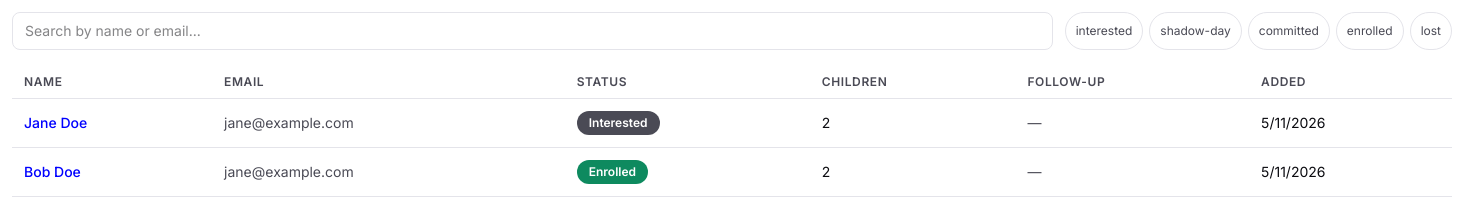
ProspectTable › filter by status shows only matching prospects
This screenshot has width=1464, height=214.
Click the button "enrolled" at (1370, 31), box [1336,12,1404,50]
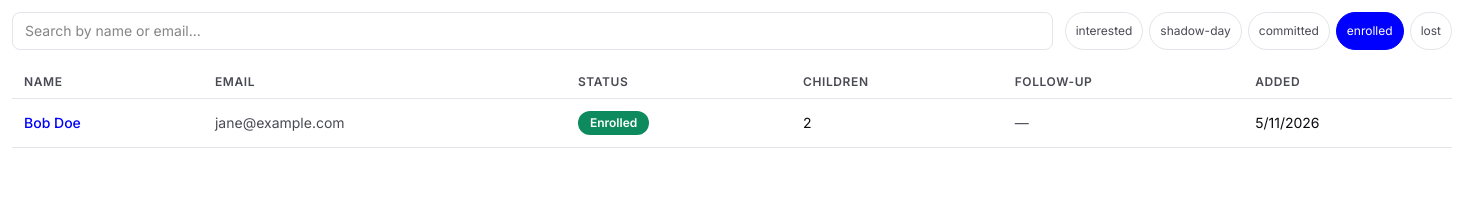
Expected: the row "Bob Doe jane@example.com Enrolled 2 — 5/11/2026" is shown, [12,98,1452,148]
